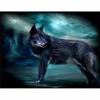Lobo: (23, 24, 93, 81)
